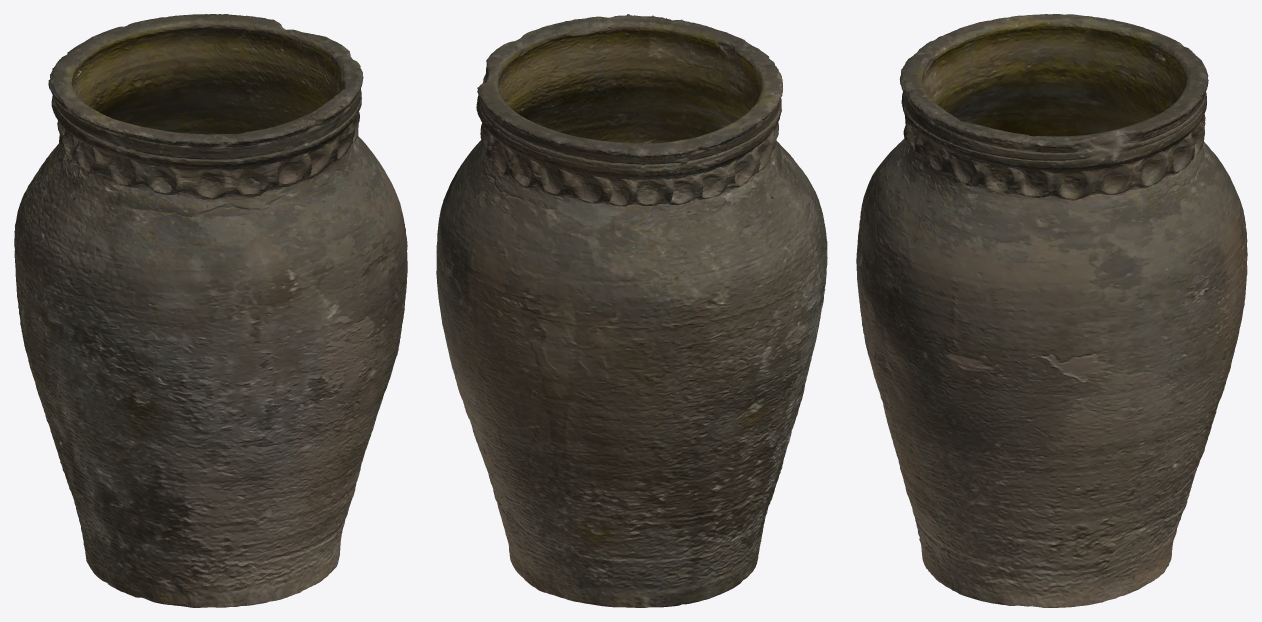
The model's file is hm-medieval-storage-jar.glb.
3 views of the same model, side by side, from view 1: azimuth 30°, elevation 25°; view 2: azimuth 150°, elevation 25°; view 3: azimuth 270°, elevation 25° (orthographic).
Visible parts, largest first — view 1: Object_2; view 2: Object_2; view 3: Object_2.
Part boxes in pixels (x1,y1,x2,y2): Object_2: (14, 14, 407, 607); Object_2: (436, 14, 827, 607); Object_2: (856, 14, 1247, 607).
Bounding box in the file's own units: 0.4719 × 0.636 × 0.4695.
Materials: 1 (1 with a texture image).
